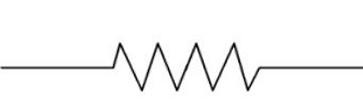resistor: (93, 29, 284, 97)
